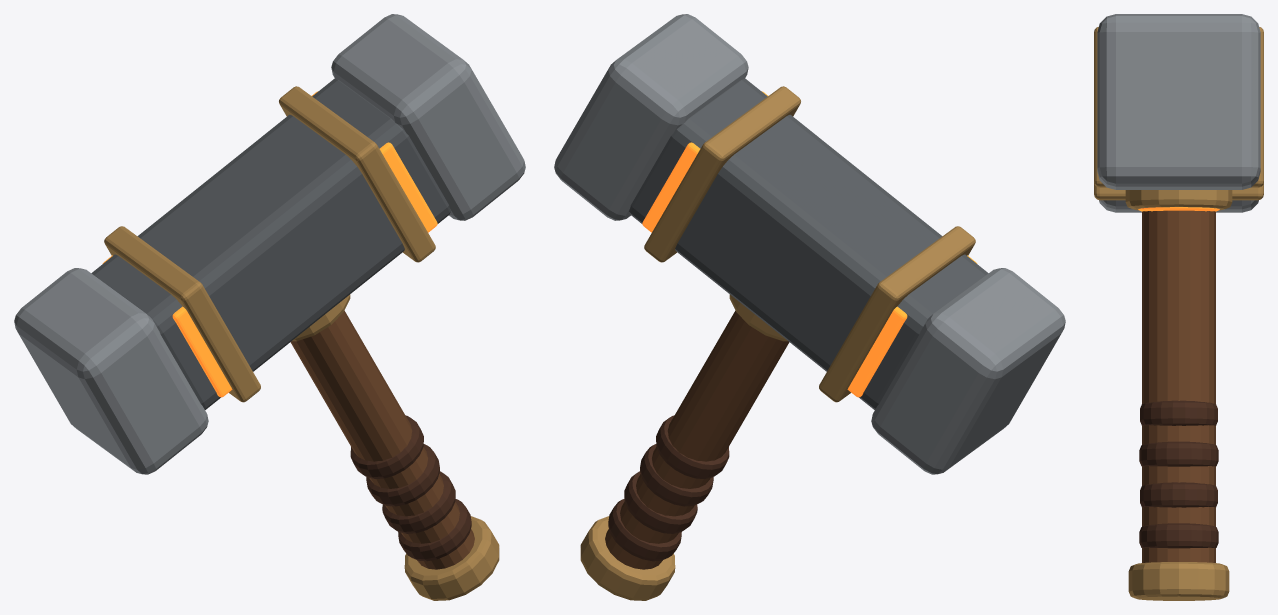
Rendered from forging-hammer-2_5d.glb.
3 views of the same model, side by side, from view 1: azimuth 30°, elevation 25°; view 2: azimuth 150°, elevation 25°; view 3: azimuth 270°, elevation 25° (orthographic). The views are drawn at different scales.
Parts seen in each view (by area): view 1: Head_Core, Head_Left_Face, Head_Right_Face, Handle_Walnut, Head_Right_Band, Head_Left_Band, Pommel_Brass, Head_Left_Ember, Grip_Leather_04, Grip_Leather_02, Grip_Leather_01, Grip_Leather_03 (+2 smaller); view 2: Head_Core, Head_Left_Face, Head_Right_Face, Handle_Walnut, Head_Right_Band, Head_Left_Band, Pommel_Brass, Head_Left_Ember, Grip_Leather_04, Grip_Leather_02, Grip_Leather_01, Grip_Leather_03 (+2 smaller); view 3: Head_Right_Face, Handle_Walnut, Pommel_Brass, Neck_Brass, Grip_Leather_03, Grip_Leather_01, Grip_Leather_02, Grip_Leather_04, Head_Right_Band, Head_Left_Band, Head_Left_Face, Neck_Ember.
Boxes of the visible parts, <box> form: Head_Core: <box>91,78,450,409</box>; Head_Left_Face: <box>14,268,208,474</box>; Head_Right_Face: <box>331,14,525,220</box>; Handle_Walnut: <box>290,310,474,569</box>; Head_Right_Band: <box>279,86,435,262</box>; Head_Left_Band: <box>104,226,260,402</box>; Pommel_Brass: <box>404,516,499,600</box>; Head_Left_Ember: <box>102,255,232,397</box>; Grip_Leather_04: <box>350,415,423,478</box>; Grip_Leather_02: <box>382,471,455,533</box>; Grip_Leather_01: <box>398,498,471,561</box>; Grip_Leather_03: <box>366,444,439,506</box>; Head_Core: <box>629,78,988,409</box>; Head_Left_Face: <box>871,268,1065,474</box>; Head_Right_Face: <box>554,14,748,220</box>; Handle_Walnut: <box>605,310,789,569</box>; Head_Right_Band: <box>644,86,800,262</box>; Head_Left_Band: <box>819,226,975,402</box>; Pommel_Brass: <box>580,516,675,600</box>; Head_Left_Ember: <box>847,255,977,397</box>; Grip_Leather_04: <box>656,415,729,478</box>; Grip_Leather_02: <box>624,471,697,533</box>; Grip_Leather_01: <box>608,498,681,561</box>; Grip_Leather_03: <box>640,444,713,506</box>; Head_Right_Face: <box>1097,14,1260,189</box>; Handle_Walnut: <box>1142,210,1215,562</box>; Pommel_Brass: <box>1128,562,1229,600</box>; Neck_Brass: <box>1125,190,1232,210</box>; Grip_Leather_03: <box>1139,441,1218,466</box>; Grip_Leather_01: <box>1139,523,1218,548</box>; Grip_Leather_02: <box>1140,482,1217,507</box>; Grip_Leather_04: <box>1140,400,1217,425</box>; Head_Right_Band: <box>1094,27,1263,187</box>; Head_Left_Band: <box>1094,183,1263,200</box>; Head_Left_Face: <box>1099,200,1258,212</box>; Neck_Ember: <box>1138,207,1219,211</box>.
Size of the model in its own units: 3.43 by 4.1 by 1.08.
